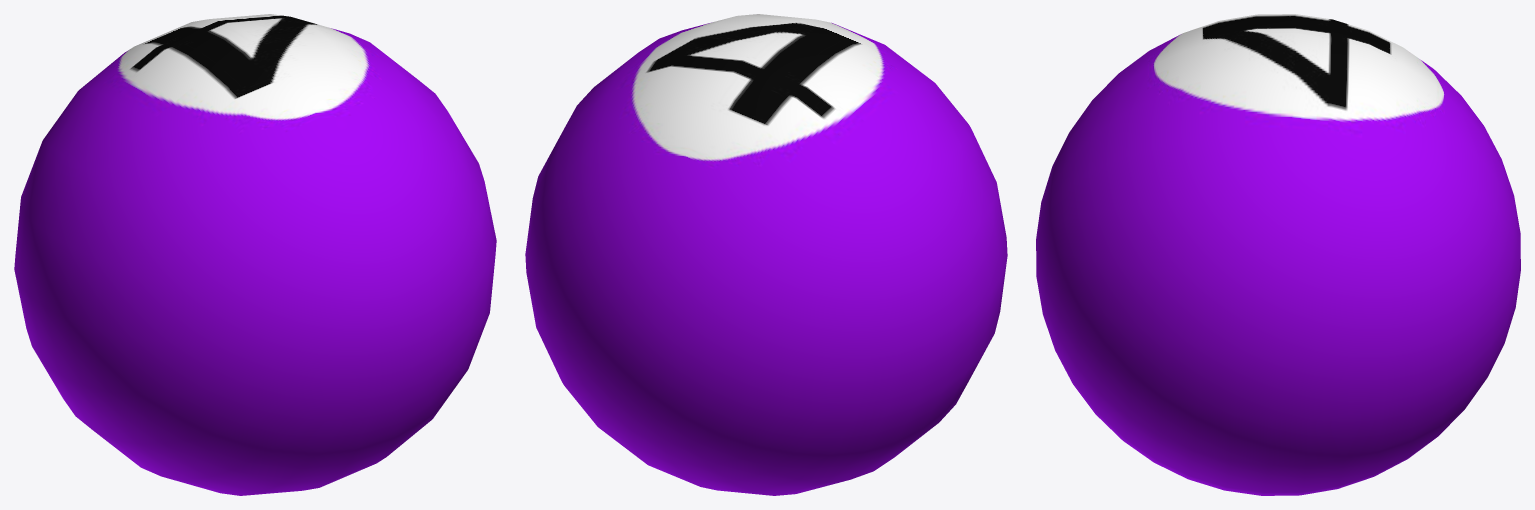
Rendered from Ball4.fbx.
3 views of the same model, side by side, from view 1: azimuth 30°, elevation 25°; view 2: azimuth 150°, elevation 25°; view 3: azimuth 270°, elevation 25° (orthographic).
Visible parts, largest first — view 1: pSphere1; view 2: pSphere1; view 3: pSphere1.
Part boxes in pixels (bbox=[...]): pSphere1: bbox=[14, 14, 496, 495]; pSphere1: bbox=[525, 14, 1007, 495]; pSphere1: bbox=[1036, 14, 1520, 495].
Size of the model in its own units: 2 by 1.99 by 2.
